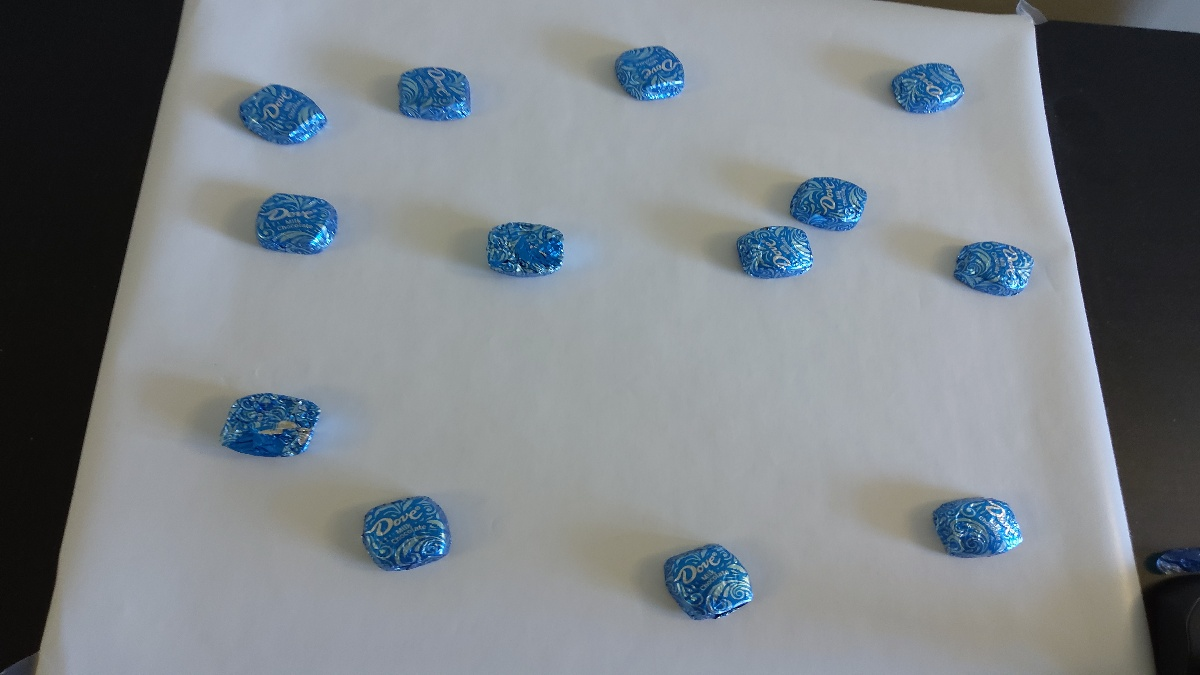chocolate_blue: (352, 480, 461, 575), (655, 534, 762, 627), (212, 386, 332, 462), (925, 488, 1032, 570), (231, 76, 343, 152), (727, 221, 819, 289), (609, 35, 691, 107), (397, 58, 480, 127), (252, 194, 340, 259), (952, 237, 1037, 303), (483, 215, 564, 282), (888, 53, 969, 120), (780, 172, 867, 234)
